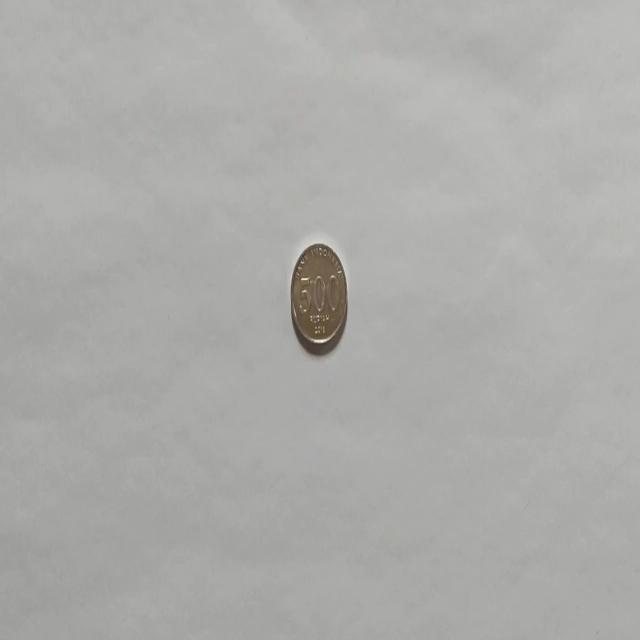lima ratus rupiah: (290, 241, 348, 351)
